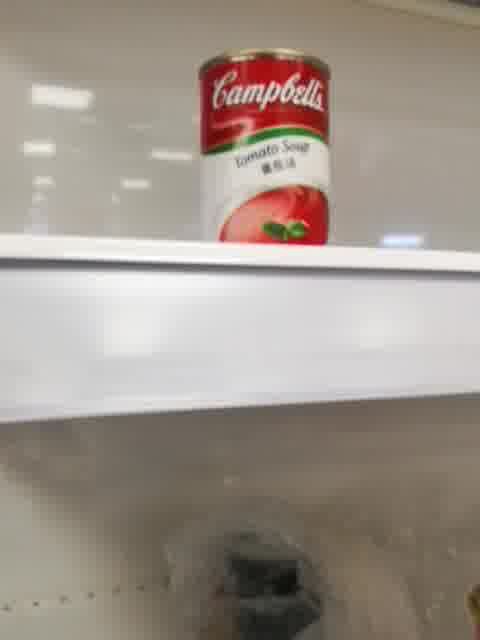tomatosoup: (196, 45, 332, 246)
